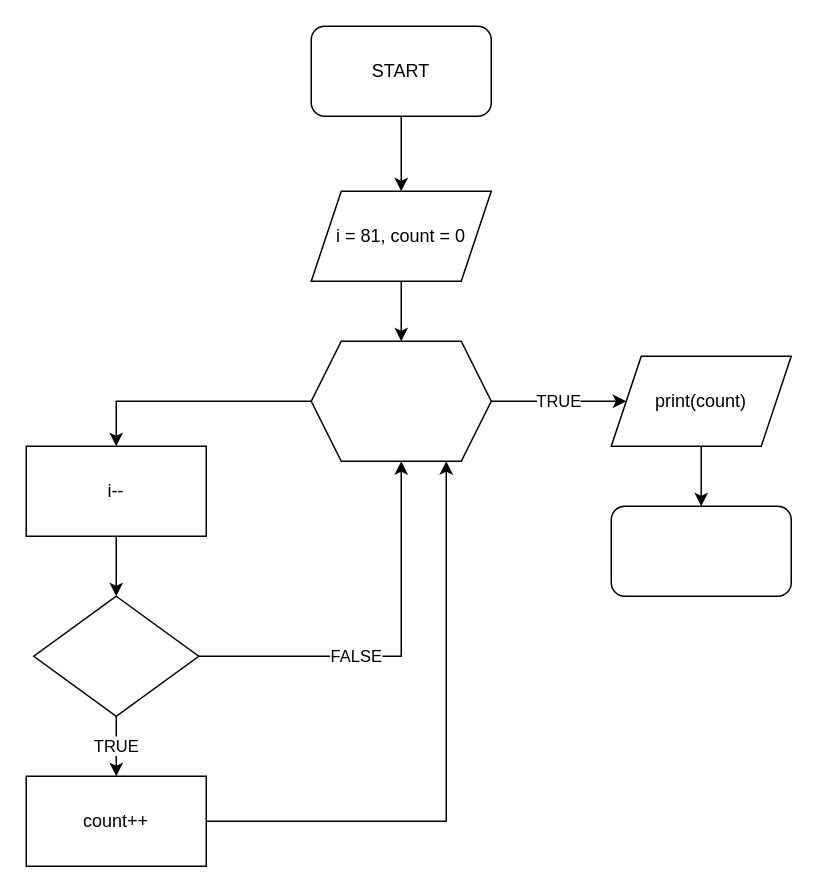
Some shapes in this 818 by 893 pixel diagram are drawn without their labels. Here are the shapes that lost their labels. From the top down, the centre of each, then its label:
At [400,400]: "i = 0".
At [700,550]: "END".
At [115,655]: "i % 2 != 0".
